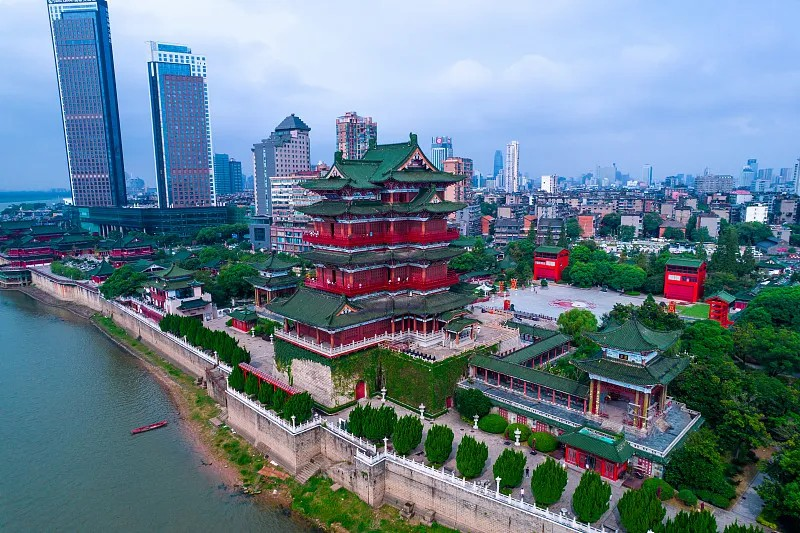Teng: (264, 133, 482, 345)
